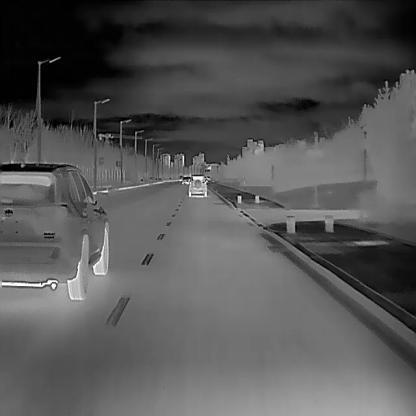car: (0, 162, 108, 300), (188, 174, 208, 197), (182, 176, 190, 184)
